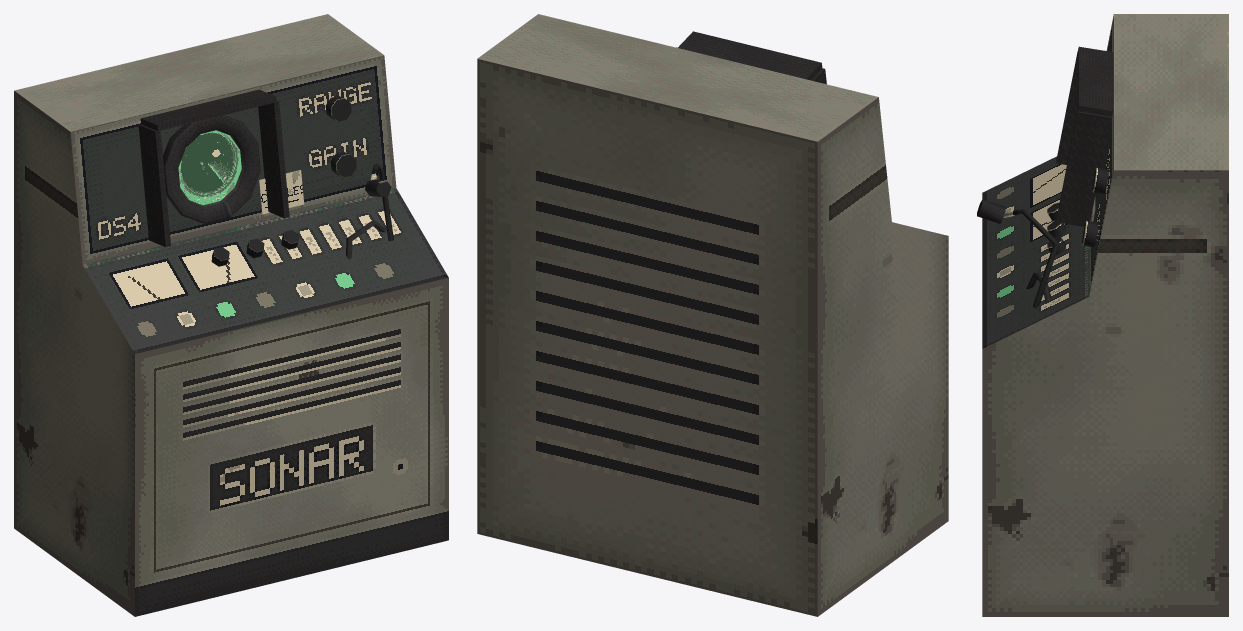
File: sonar_console.glb
3 views of the same model, side by side, from view 1: azimuth 30°, elevation 25°; view 2: azimuth 150°, elevation 25°; view 3: azimuth 270°, elevation 25° (orthographic). The views are drawn at different scales.
Visible parts, largest first — view 1: sonar_console; view 2: sonar_console; view 3: sonar_console.
Boxes of the visible parts, x1=… form: sonar_console: x1=14, y1=14, x2=448, y2=616; sonar_console: x1=477, y1=14, x2=948, y2=616; sonar_console: x1=977, y1=14, x2=1228, y2=616.
Size of the model in its own units: 0.9 by 1.21 by 0.6129.
Materials: 2 (2 with a texture image).
